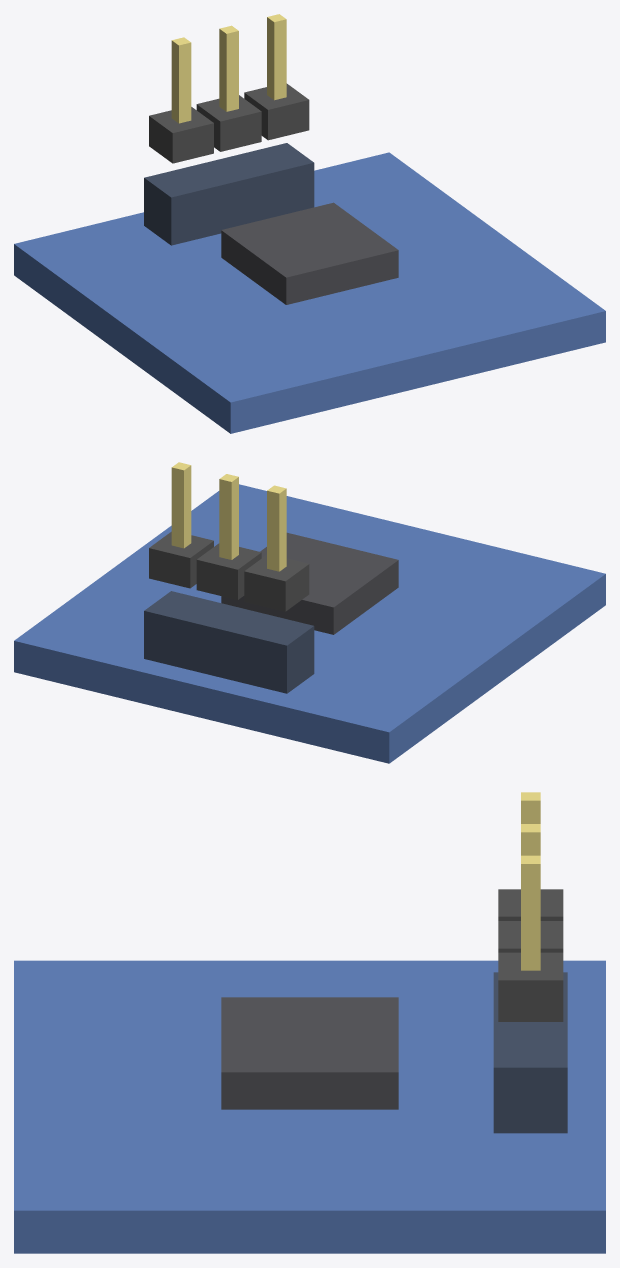
The model's file is mosfet-2n7000.glb.
3 views of the same model, one above another, from view 1: azimuth 30°, elevation 25°; view 2: azimuth 150°, elevation 25°; view 3: azimuth 270°, elevation 25° (orthographic). The views are drawn at different scales.
Parts seen in each view (by area): view 1: mosfet-2n7000_mesh; view 2: mosfet-2n7000_mesh; view 3: mosfet-2n7000_mesh.
Boxes of the visible parts, bbox=[...] form: mosfet-2n7000_mesh: bbox=[14, 14, 605, 433]; mosfet-2n7000_mesh: bbox=[14, 462, 605, 763]; mosfet-2n7000_mesh: bbox=[14, 792, 605, 1253].
Size of the model in its own units: 20 by 11.2 by 20.
